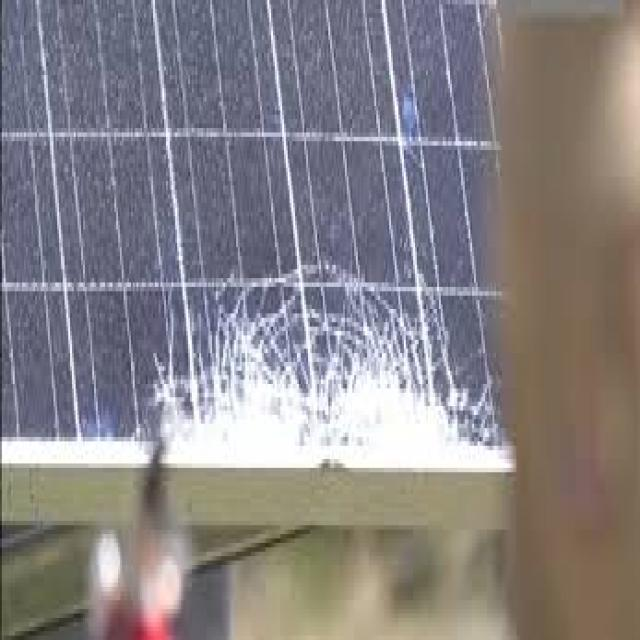faulty: (3, 2, 513, 474)
